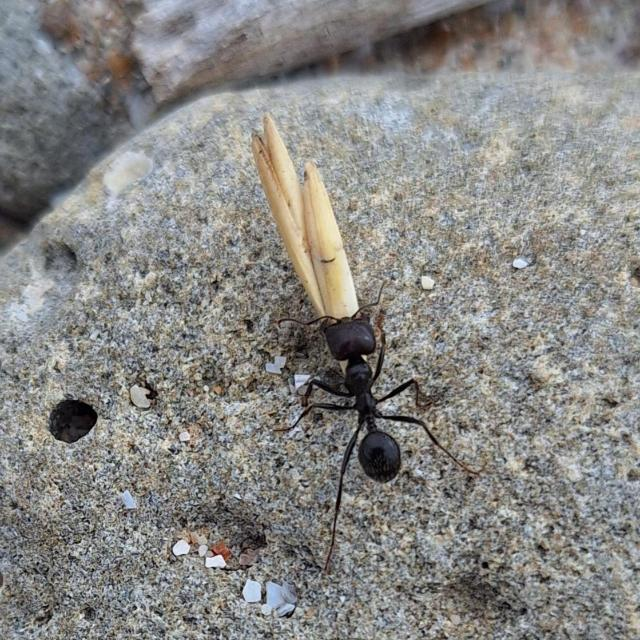Messor: (278, 300, 426, 512)
